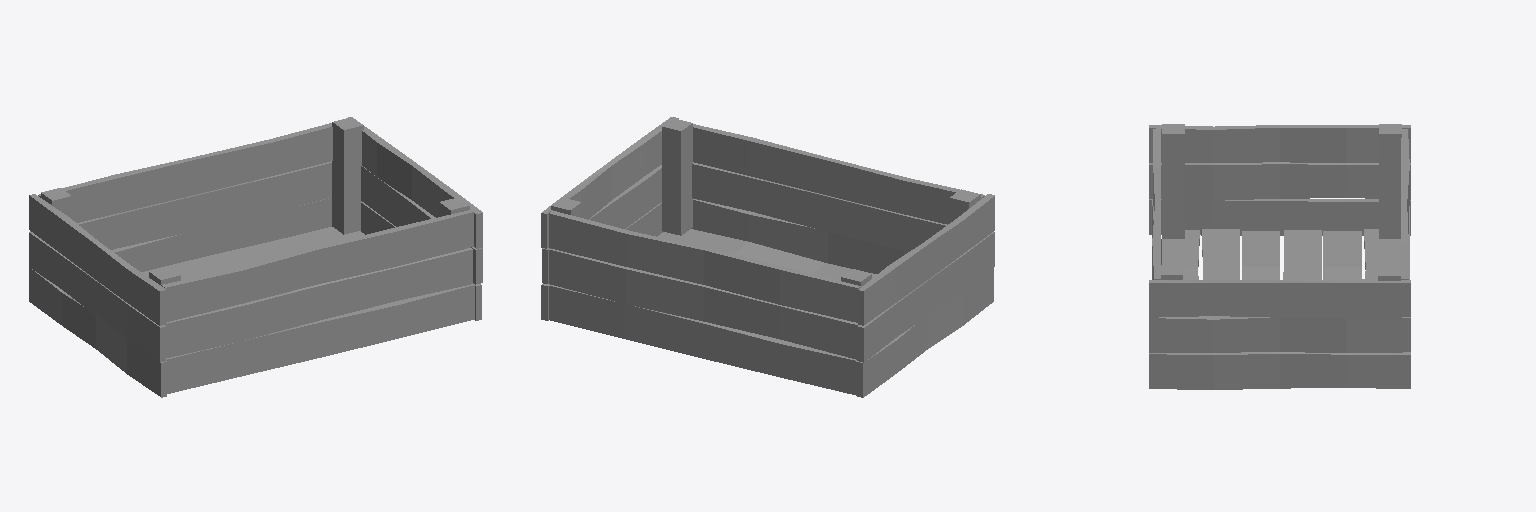
The model's file is Crate.obj.
3 renders of one model, left to right at view 1: azimuth 30°, elevation 25°; view 2: azimuth 150°, elevation 25°; view 3: azimuth 270°, elevation 25°, orthographic.
Parts seen in each view (by area): view 1: Crate; view 2: Crate; view 3: Crate.
Boxes of the visible parts, x1=… form: Crate: x1=29, y1=117, x2=482, y2=397; Crate: x1=541, y1=117, x2=994, y2=397; Crate: x1=1149, y1=124, x2=1410, y2=389.
Size of the model in its own units: 0.8163 by 0.2719 by 0.5732.